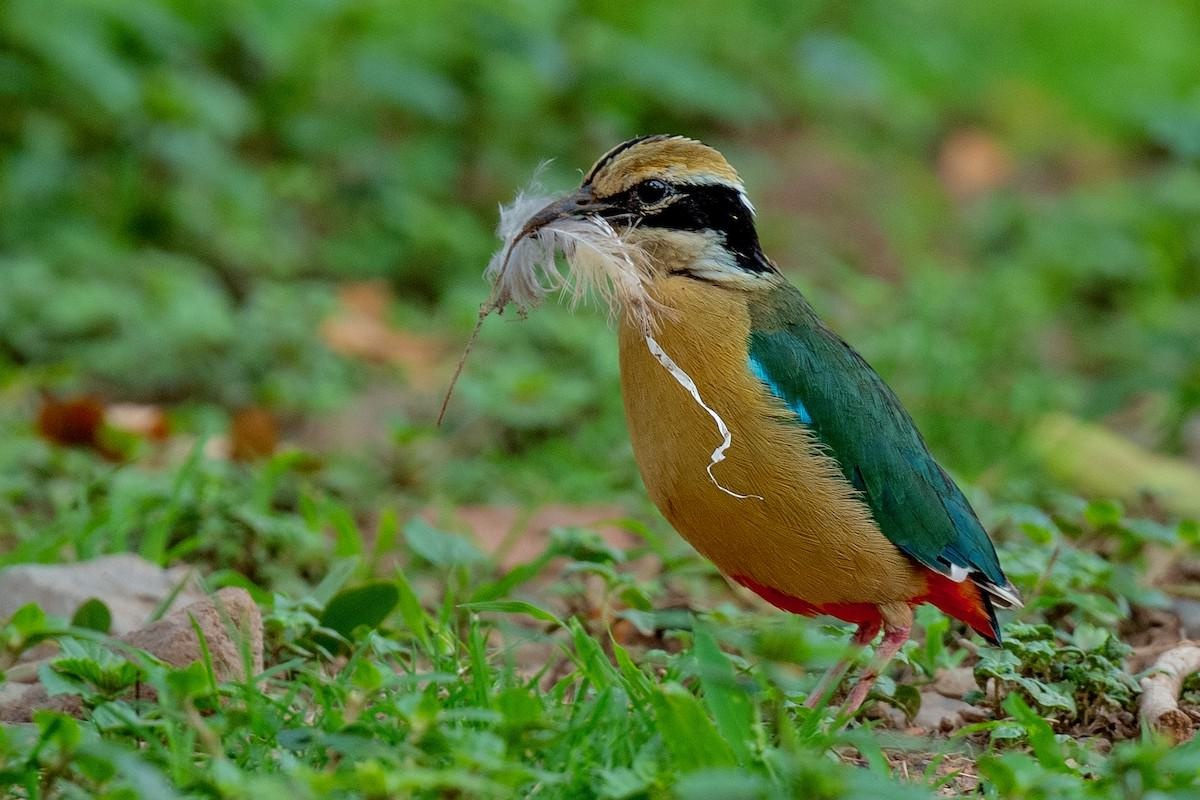pitta: (471, 114, 1041, 694)
